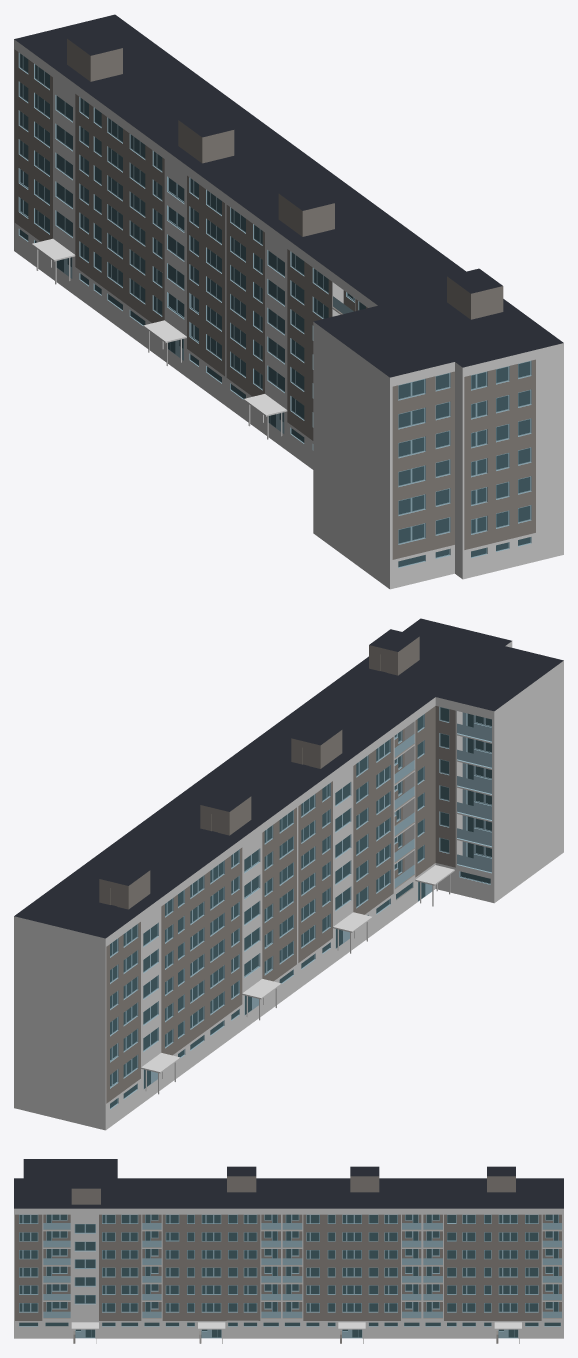
Rendered from flat-house_01.fbx.
The picture shows the model from 3 angles, top to bottom: view 1: azimuth 30°, elevation 25°; view 2: azimuth 150°, elevation 25°; view 3: azimuth 270°, elevation 25°; orthographic projection. The views are drawn at different scales.
Parts seen in each view (by area): view 1: flat-house_01; view 2: flat-house_01; view 3: flat-house_01.
Boxes of the visible parts, bbox=[...] form: flat-house_01: bbox=[14, 14, 563, 589]; flat-house_01: bbox=[14, 618, 563, 1130]; flat-house_01: bbox=[14, 1159, 563, 1343].
Size of the model in its own units: 2035 by 2470 by 8450.
